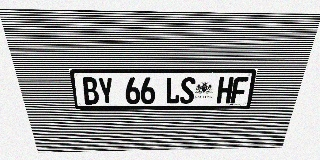6: (124, 77, 140, 104), (140, 77, 155, 104)
B: (81, 77, 100, 105)
F: (230, 77, 249, 103)
H: (216, 77, 234, 103)
L: (165, 77, 181, 104)
S: (180, 77, 196, 104)
Y: (97, 77, 115, 104)
